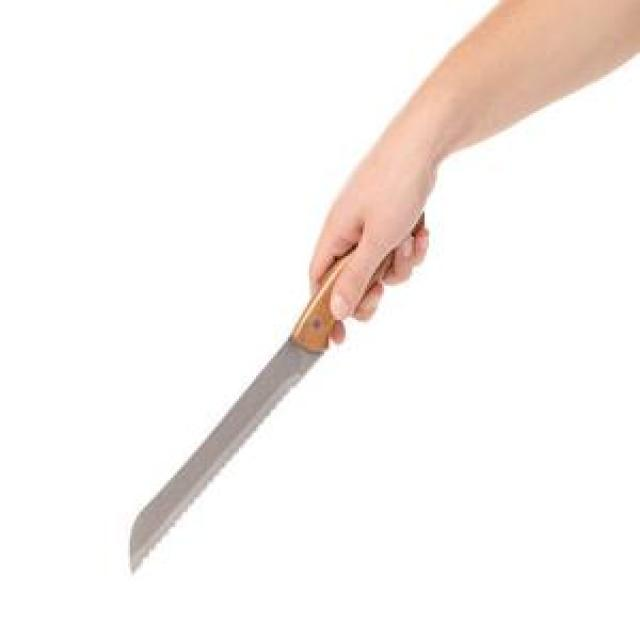knife: (104, 201, 430, 576)
